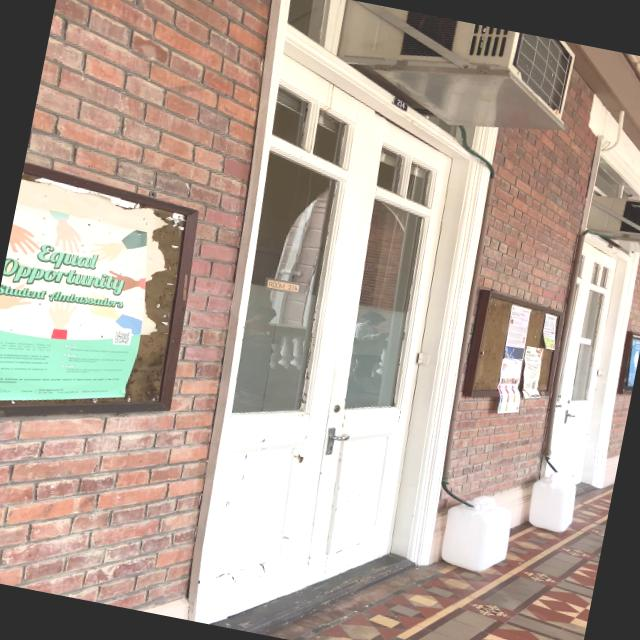room214: (392, 96, 410, 112)
room214Window: (262, 276, 306, 295)
